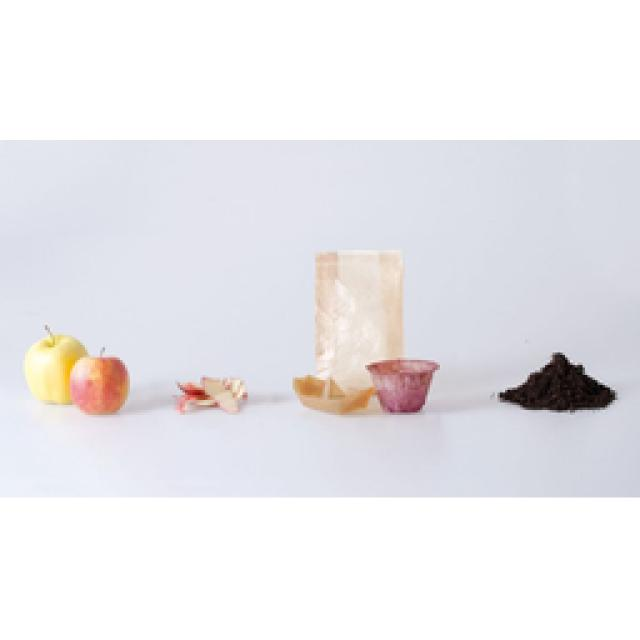food_waste: (292, 252, 438, 412), (25, 328, 128, 412), (500, 352, 612, 410), (178, 378, 242, 410)
